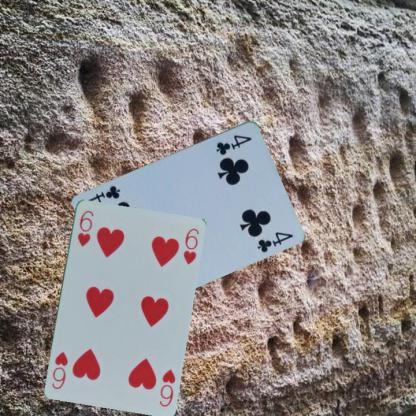4c: (213, 131, 254, 157)
6h: (156, 366, 177, 408), (74, 208, 94, 248)
